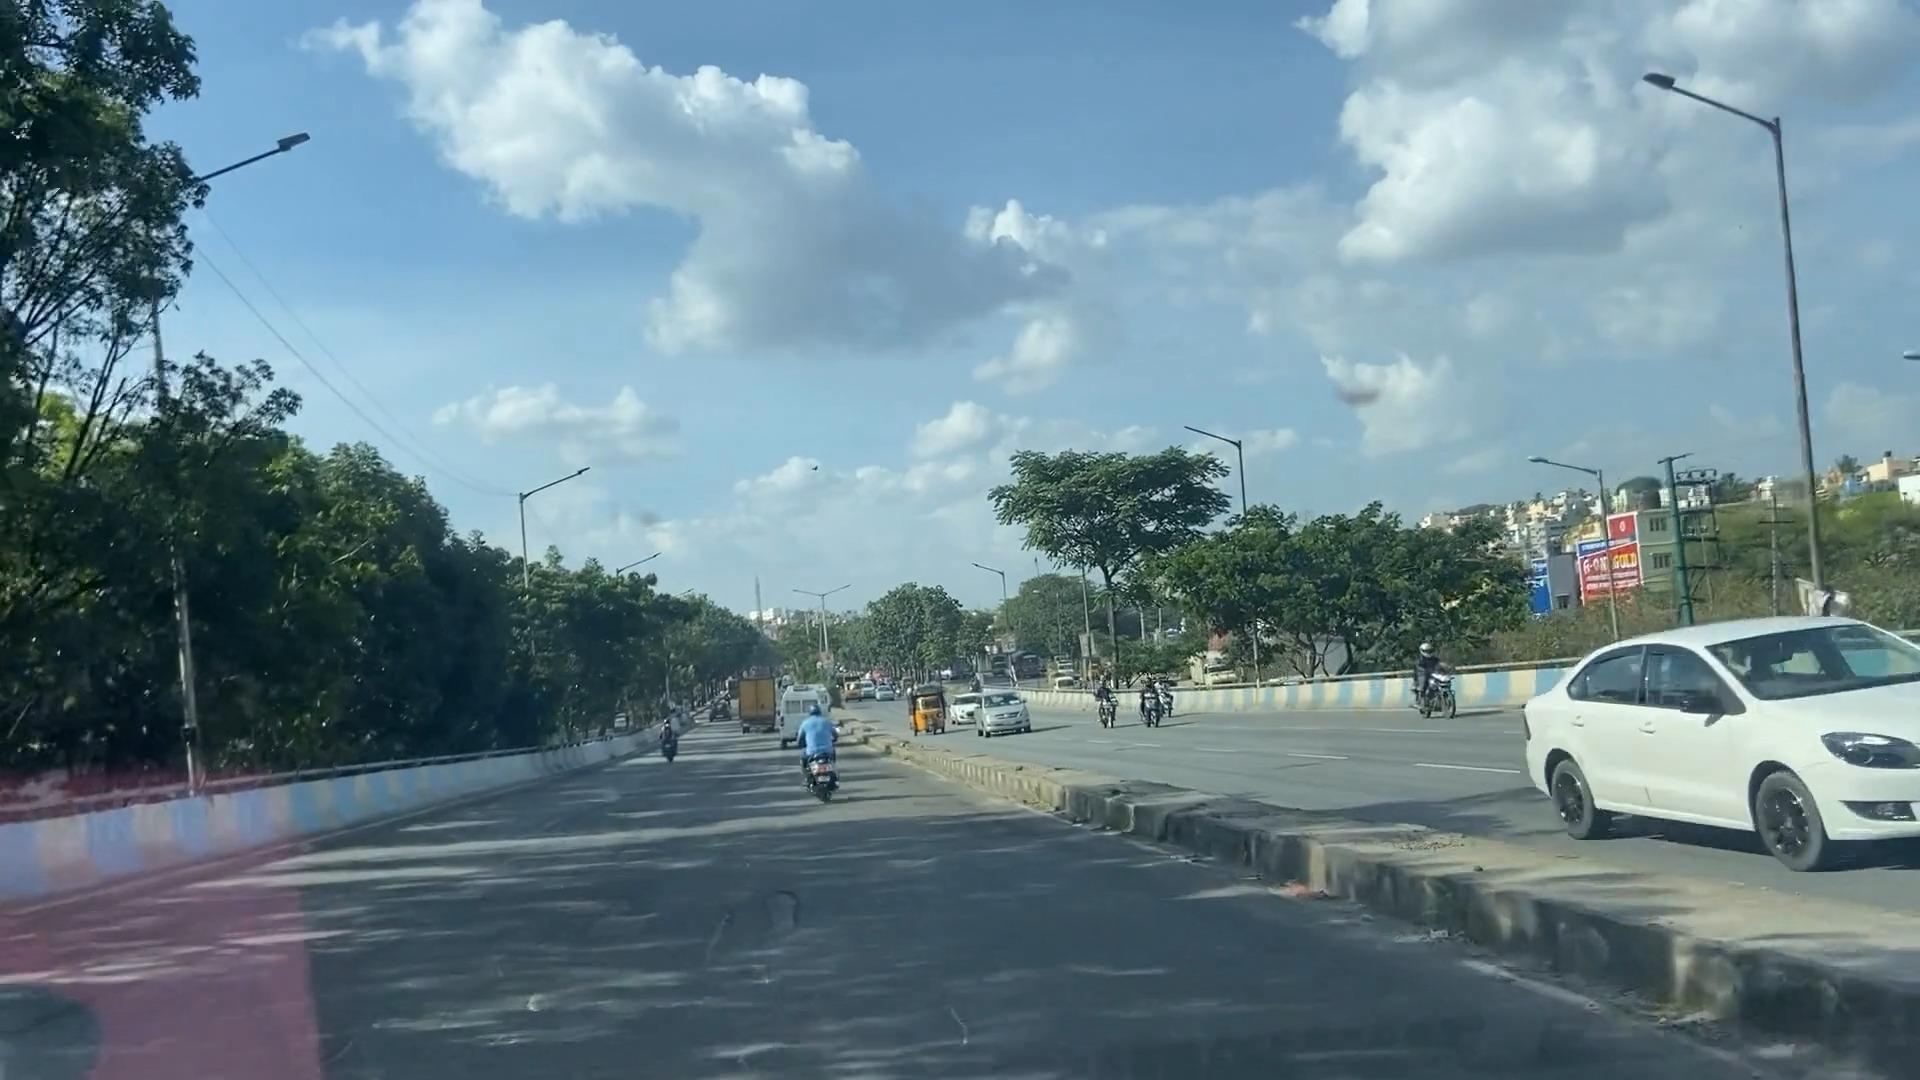LMV: (778, 690, 847, 805)
RoadDamages: (750, 838, 1036, 1080), (468, 930, 580, 1080)
